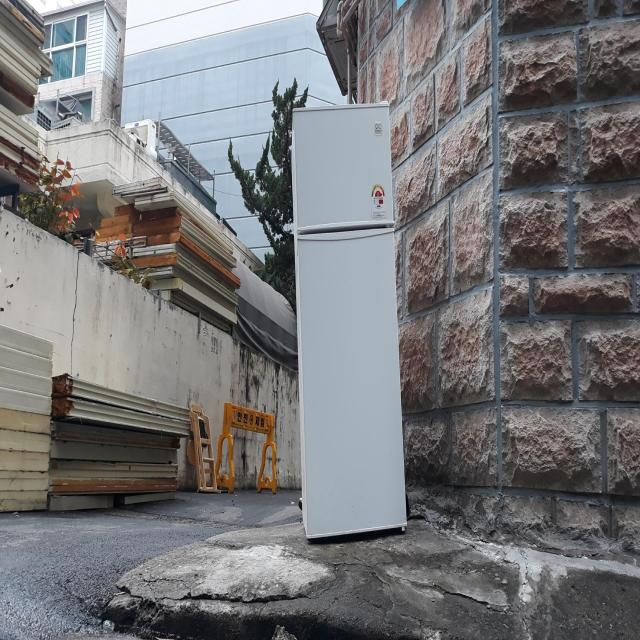refrigerator: (292, 96, 410, 546)
